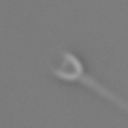normal: (79, 74, 128, 111)
